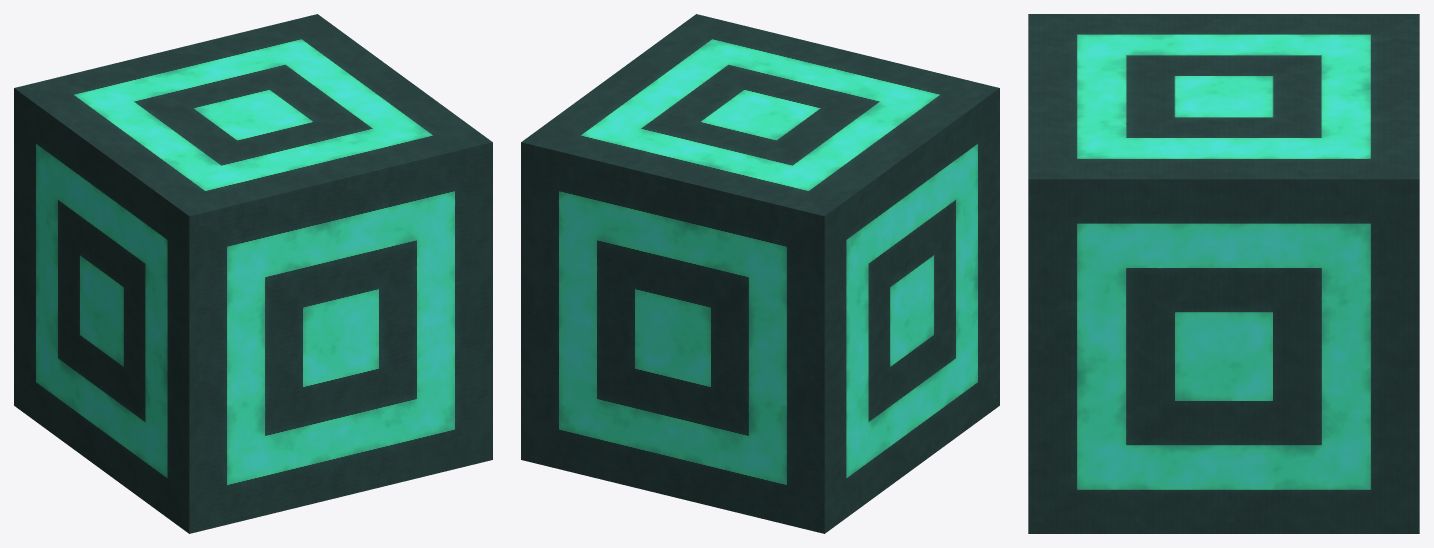
Rendered from IvyBlock.glb.
The picture shows the model from 3 angles, left to right: view 1: azimuth 30°, elevation 25°; view 2: azimuth 150°, elevation 25°; view 3: azimuth 270°, elevation 25°; orthographic projection. The views are drawn at different scales.
Visible parts, largest first — view 1: IvyBlock; view 2: IvyBlock; view 3: IvyBlock.
Part boxes in pixels (x1=…): IvyBlock: x1=14, y1=14, x2=492, y2=533; IvyBlock: x1=521, y1=14, x2=999, y2=533; IvyBlock: x1=1028, y1=14, x2=1419, y2=533.
Bounding box in the file's own units: 2 × 2 × 2.
1 material, 1 textured.
